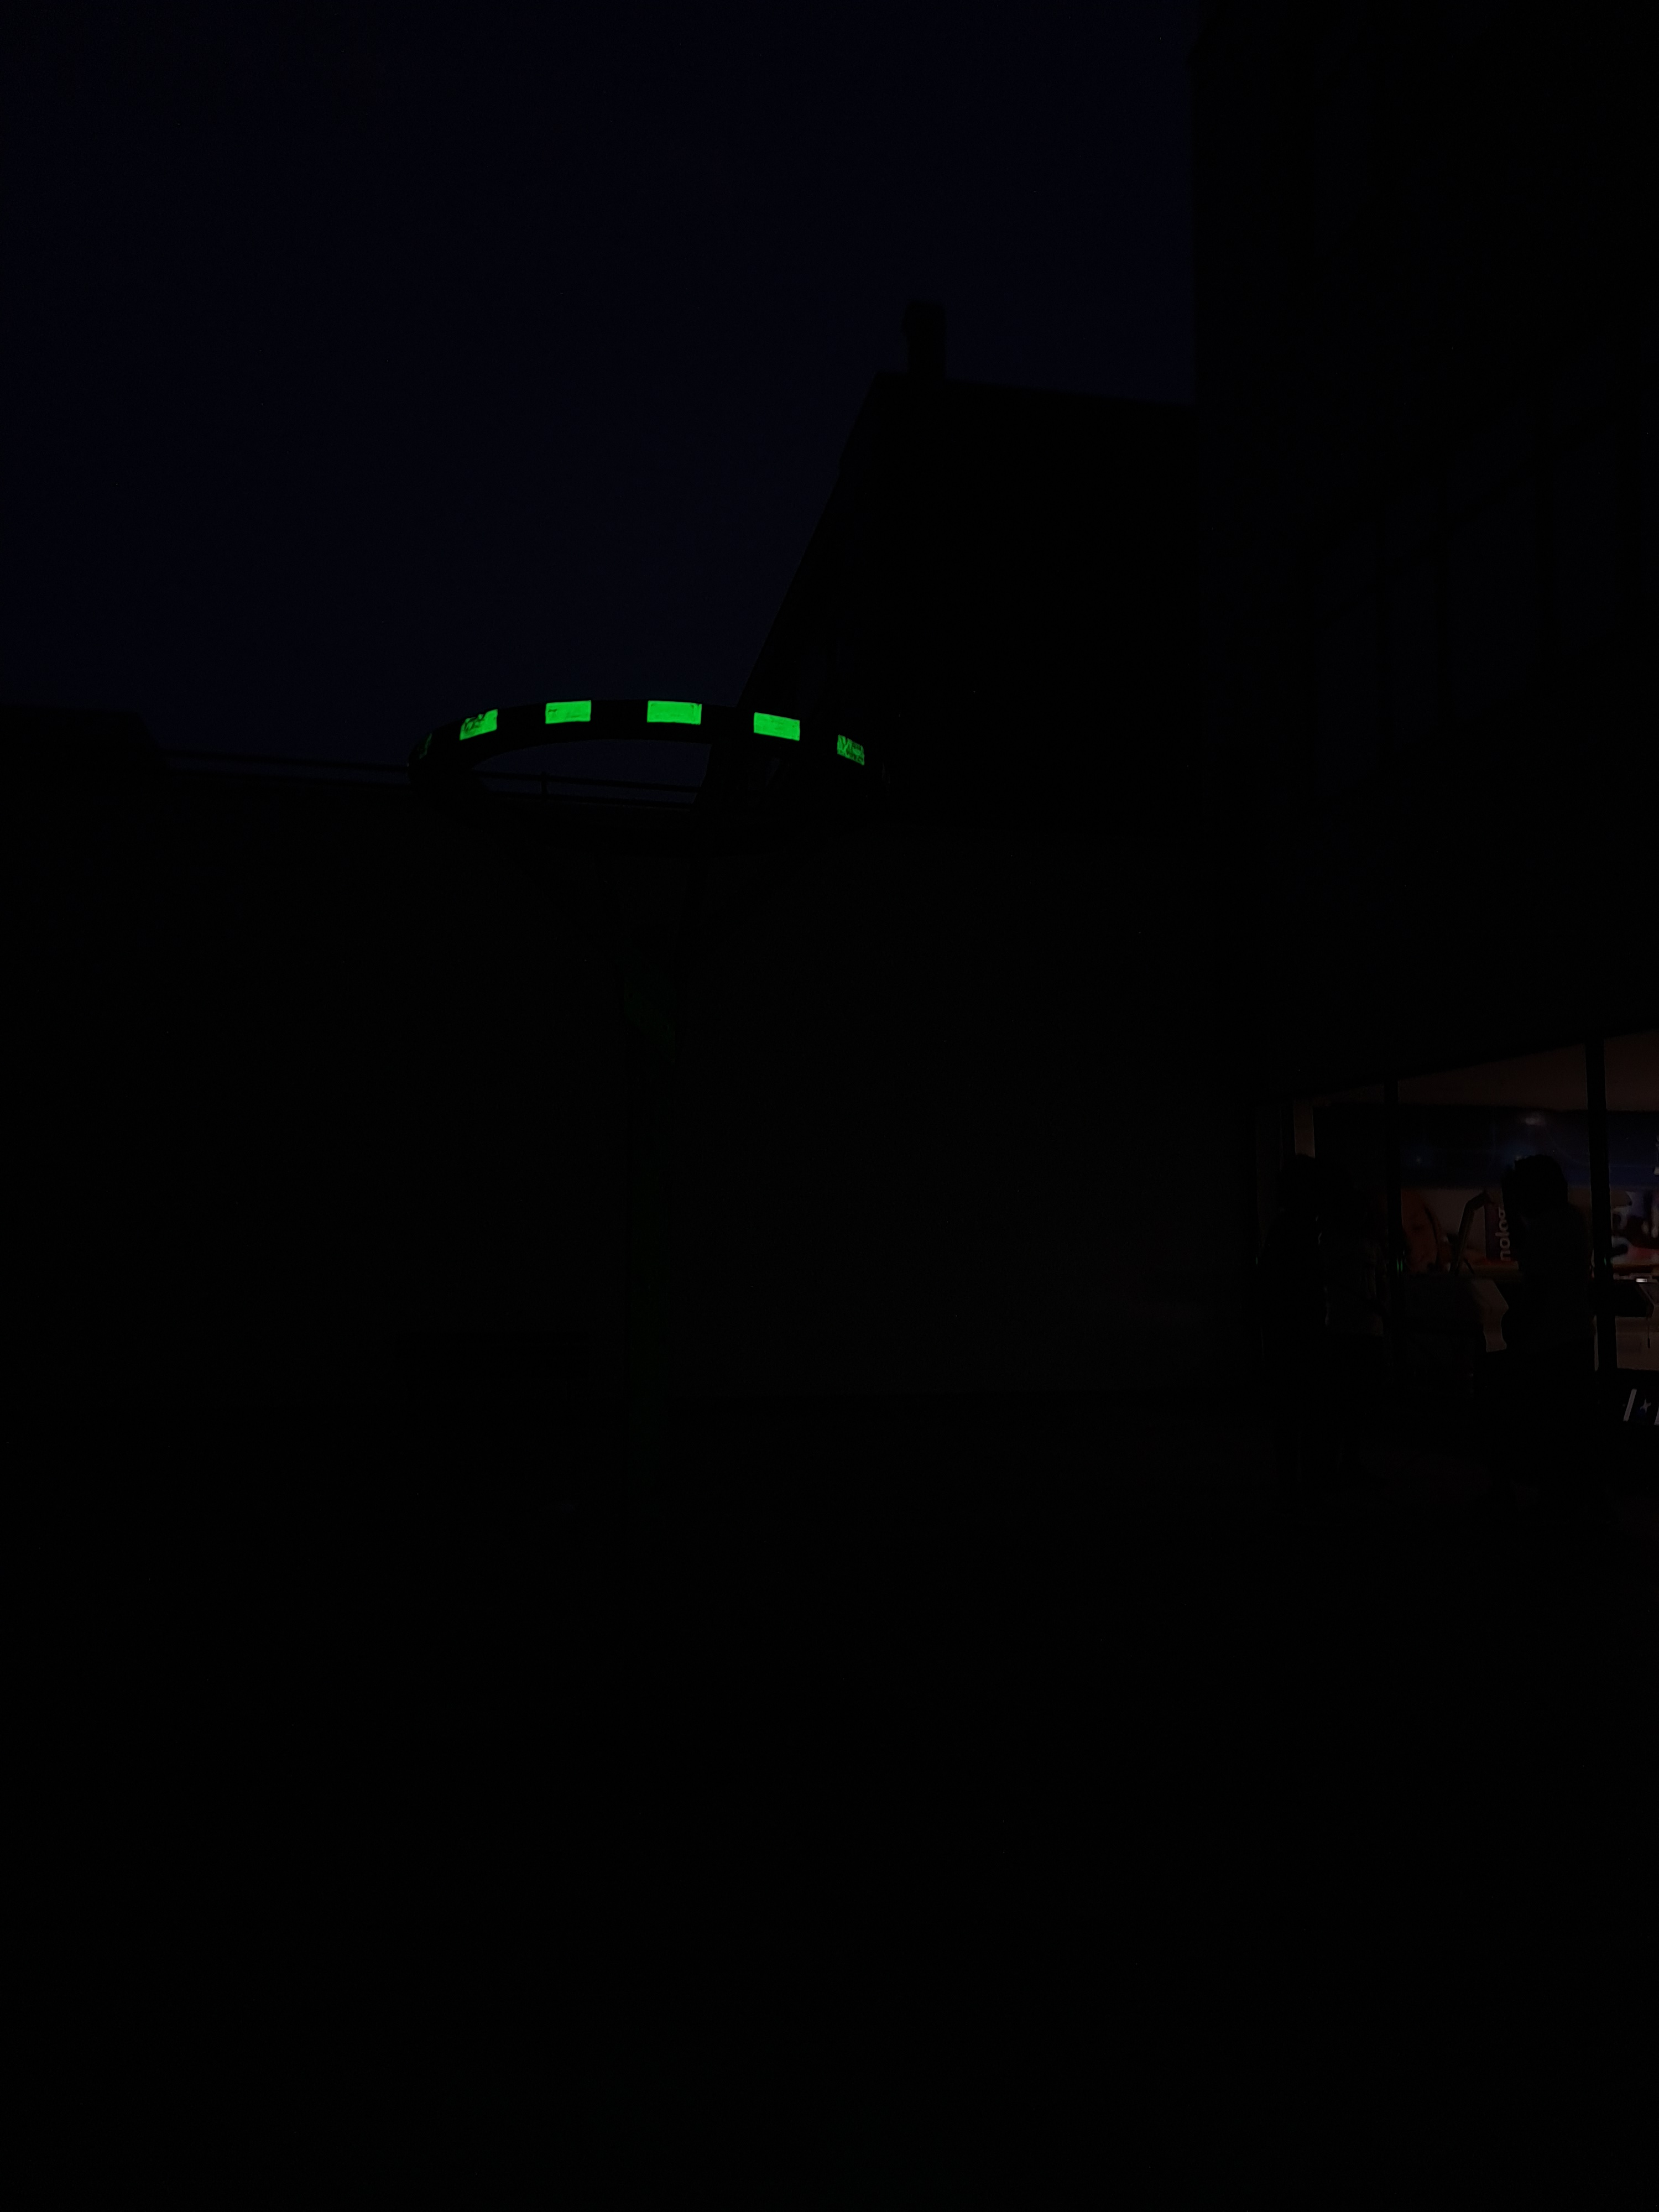hoop: (457, 697, 870, 768)
